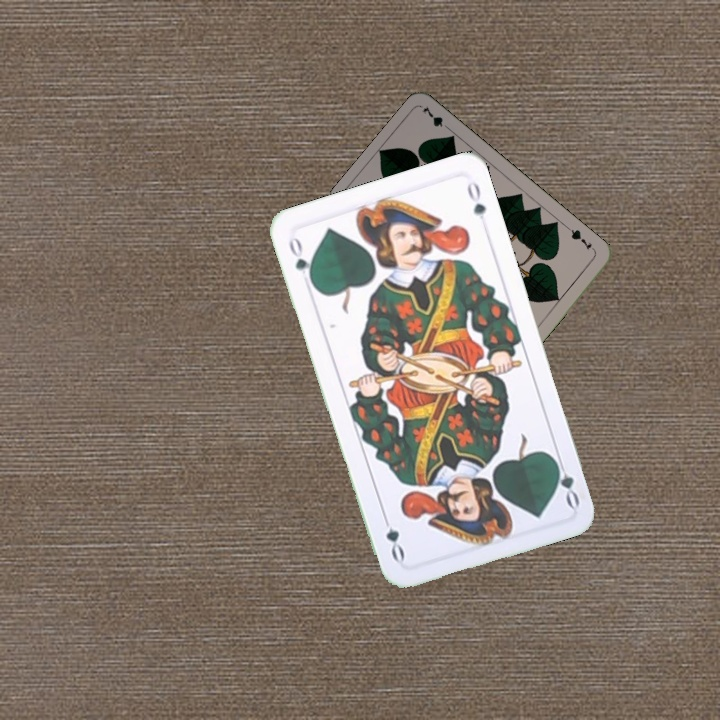G7: (564, 224, 598, 254)
GO: (548, 452, 583, 510), (284, 231, 317, 288)
